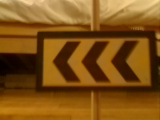left: (38, 32, 157, 90)
